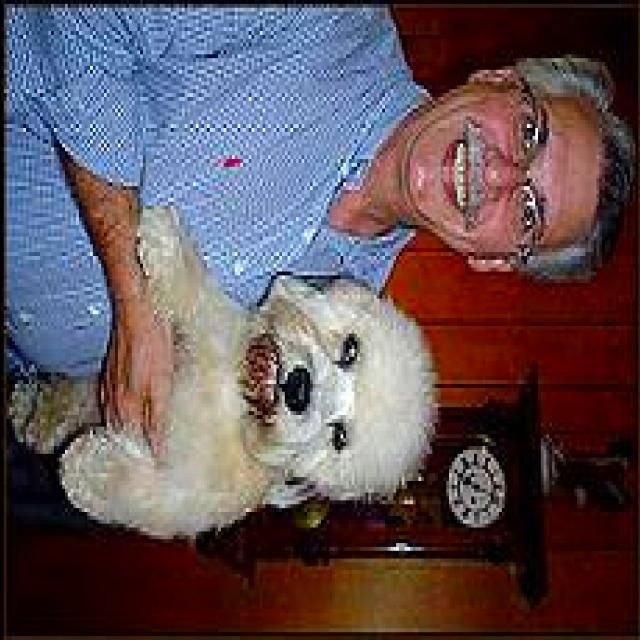dandie_dinmont: (53, 198, 440, 547)
